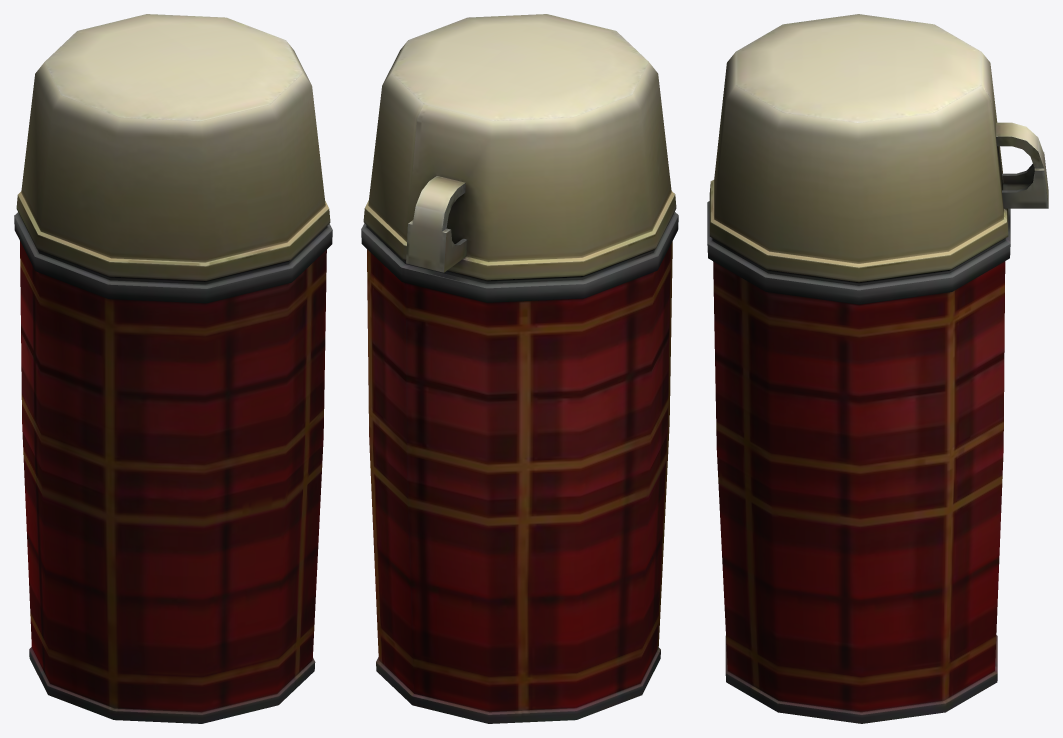
3 renders of one model, left to right at view 1: azimuth 30°, elevation 25°; view 2: azimuth 150°, elevation 25°; view 3: azimuth 270°, elevation 25°, orthographic.
Visible parts, largest first — view 1: body0_model0_lod0_mesh0; view 2: body0_model0_lod0_mesh0; view 3: body0_model0_lod0_mesh0.
Part boxes in pixels (bbox=[...]): body0_model0_lod0_mesh0: bbox=[14, 14, 332, 723]; body0_model0_lod0_mesh0: bbox=[361, 14, 678, 723]; body0_model0_lod0_mesh0: bbox=[707, 14, 1048, 723].
Bounding box in the file's own units: 6.77 × 14.27 × 7.24.
1 material, 1 textured.
